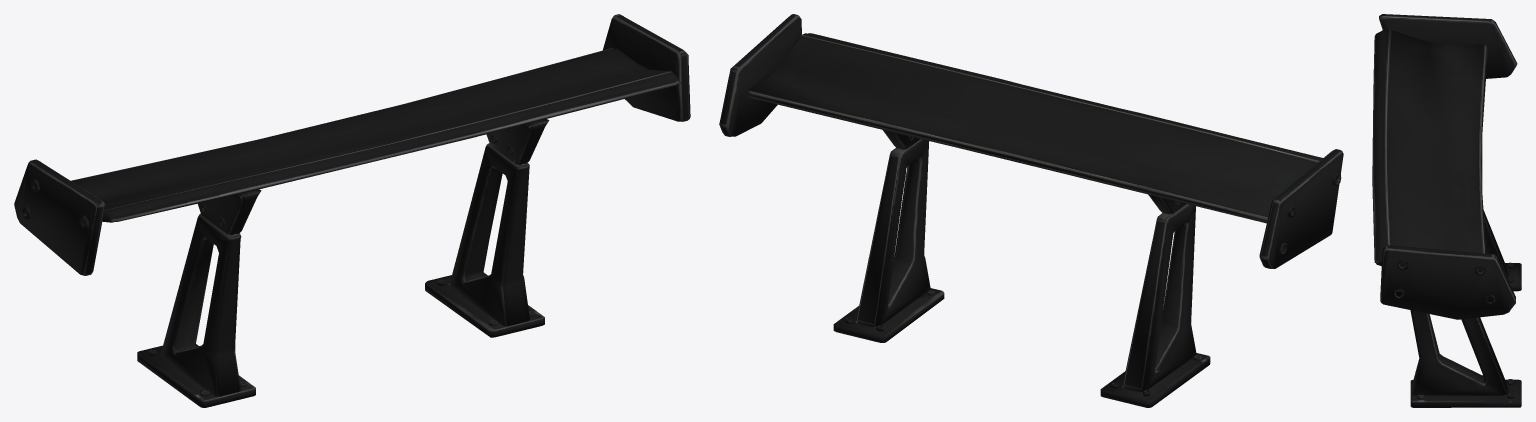
Rendered from bison-rear_spoiler.glb.
3 renders of one model, left to right at view 1: azimuth 30°, elevation 25°; view 2: azimuth 150°, elevation 25°; view 3: azimuth 270°, elevation 25°, orthographic. The views are drawn at different scales.
Visible parts, largest first — view 1: tripo_node_14972004-1724-4e0e-9bd9-443b8348aaee; view 2: tripo_node_14972004-1724-4e0e-9bd9-443b8348aaee; view 3: tripo_node_14972004-1724-4e0e-9bd9-443b8348aaee.
Part boxes in pixels (x1,y1,x2,y2): tripo_node_14972004-1724-4e0e-9bd9-443b8348aaee: (14, 14, 690, 407); tripo_node_14972004-1724-4e0e-9bd9-443b8348aaee: (719, 14, 1343, 407); tripo_node_14972004-1724-4e0e-9bd9-443b8348aaee: (1372, 14, 1521, 407).
Bounding box in the file's own units: 1.2 × 0.4861 × 0.3123.
Materials: 1 (1 with a texture image).
